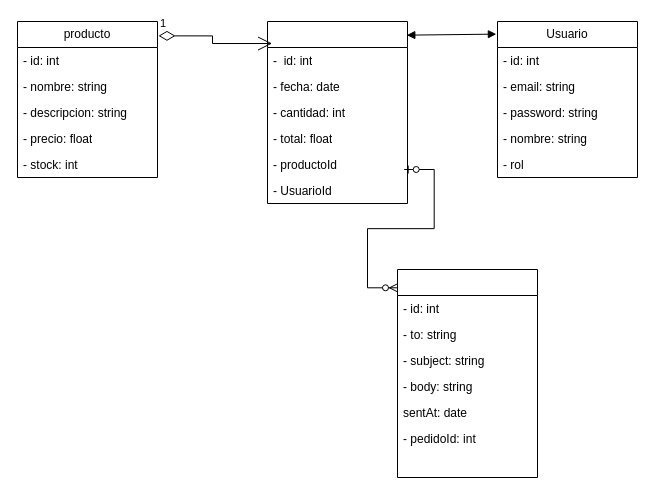
Image size: 655x496. Some labels were removed from this diagram. Here are the shapes that lost their labels. From the top down, the box of each, then its label:
(266, 20, 408, 204): Pedido
(396, 268, 538, 478): Email
